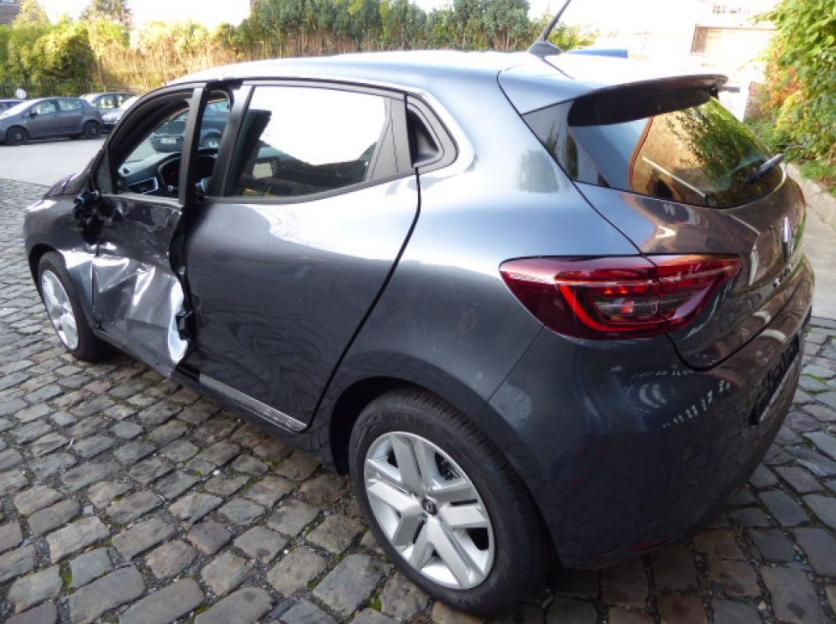Back-bumper: (475, 256, 815, 567)
Back-door: (184, 82, 419, 429)
Back-wheel: (347, 388, 552, 609)
Back-window: (227, 87, 386, 195)
Back-windshield: (522, 88, 782, 207)
Fender: (25, 179, 93, 328)
Front-door: (89, 84, 202, 376)
Front-wheel: (38, 251, 100, 358)
Front-window: (95, 90, 191, 197)
Hood: (43, 174, 74, 197)
License-plate: (753, 335, 798, 421)
Quarter-panel: (307, 175, 636, 442)
Rocker-panel: (172, 369, 340, 476)
Roof: (170, 46, 546, 91)
Tail-light: (503, 255, 672, 341), (643, 253, 745, 335)
Trunk: (500, 51, 807, 367)
